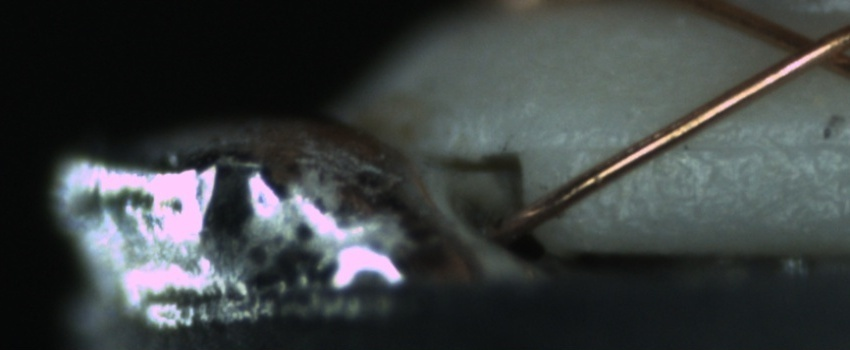CL: (763, 15, 849, 80)
DL: (564, 114, 848, 176)
